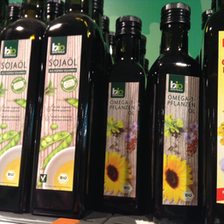oil: (30, 1, 103, 217), (148, 4, 202, 221), (1, 1, 46, 215), (103, 16, 150, 217)
